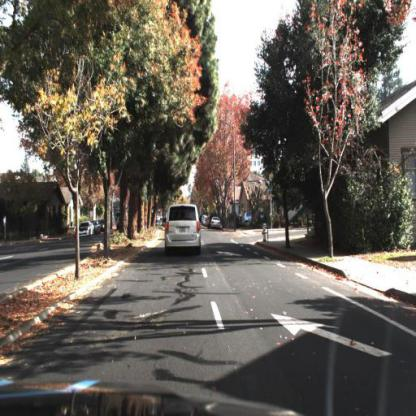car: (159, 200, 209, 259), (77, 221, 96, 239), (79, 220, 95, 239)
